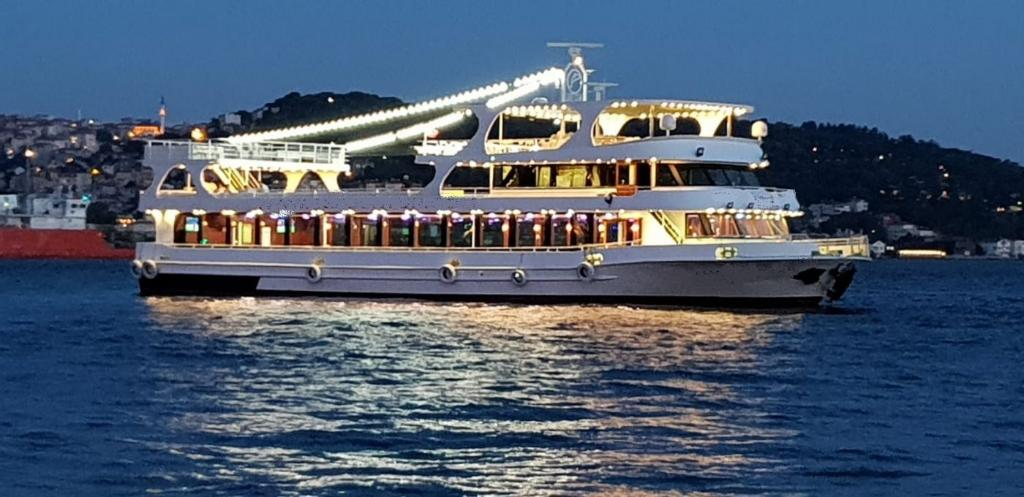PassengerShip: (129, 58, 885, 312)
